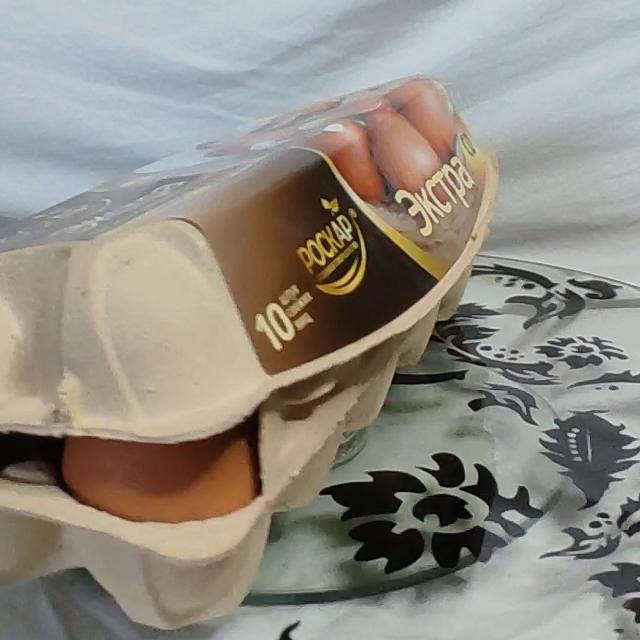egg: (0, 65, 485, 618)
